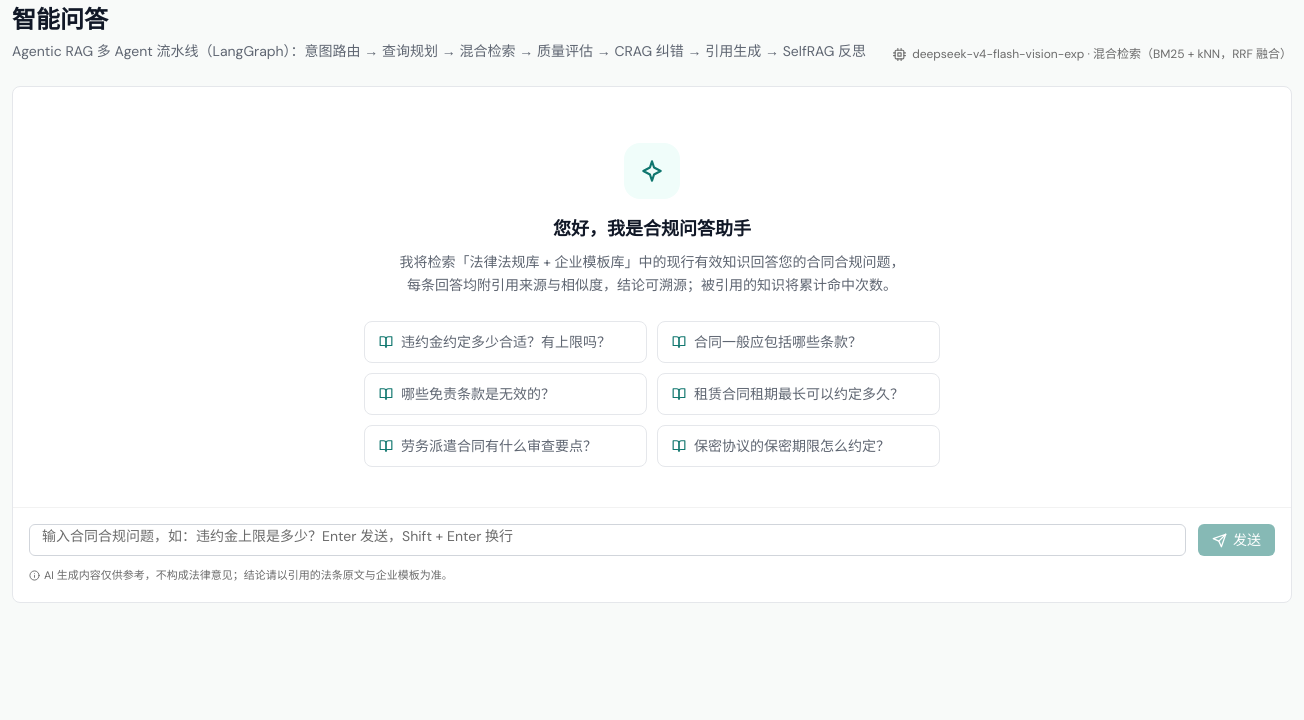
Test: QaAssistantView › 自反思失败时清空当前回答后重新接收增量
Type "测试" into the text box with placeholder "输入合同合规问题，如：违约金上限是多少？Enter 发送，Shift + Enter 换行" at [608, 540], box [29, 524, 1186, 556]
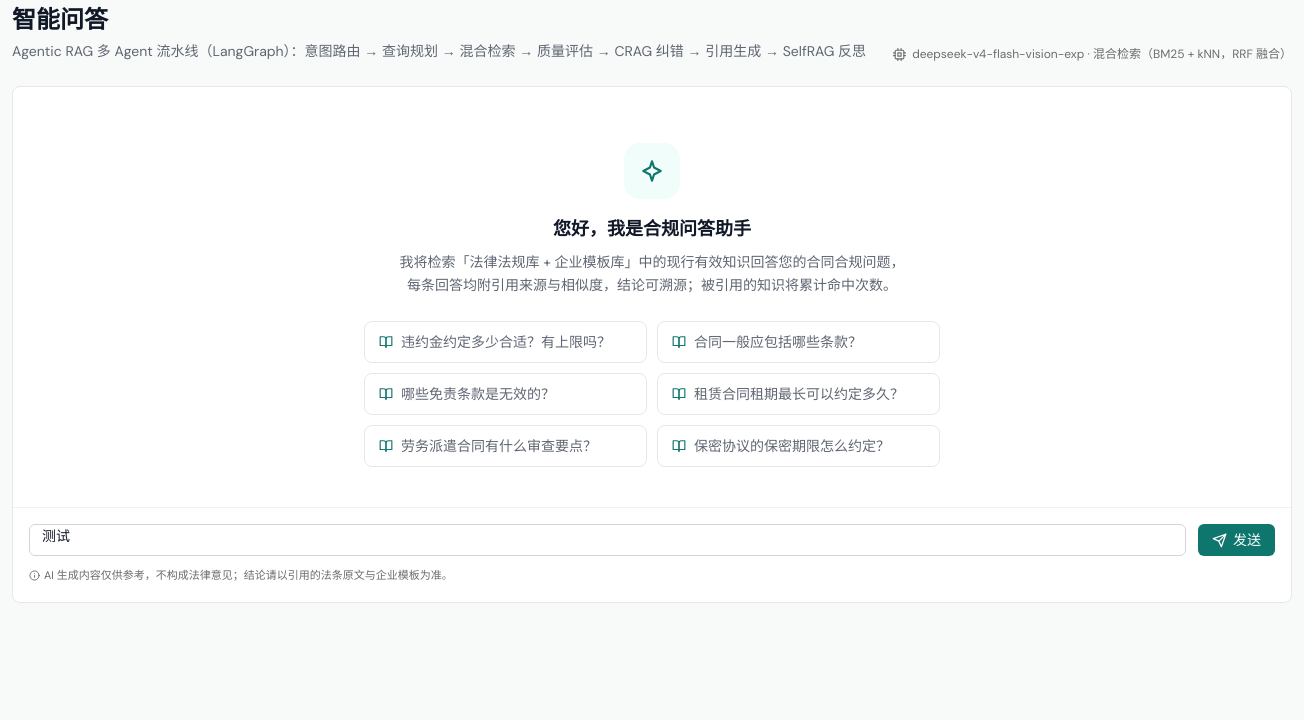
Press Enter in the text box, box [29, 524, 1186, 556]
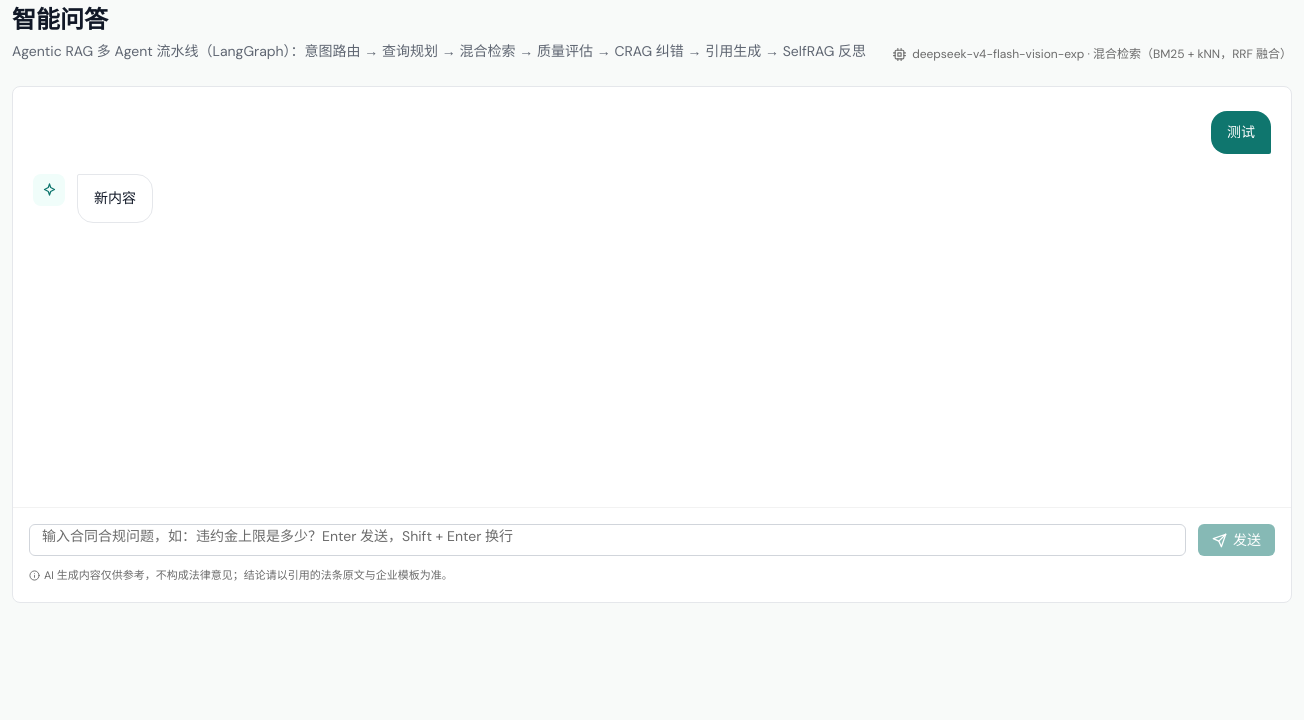
Expected: the text "新内容" is shown, [77, 174, 153, 223]
